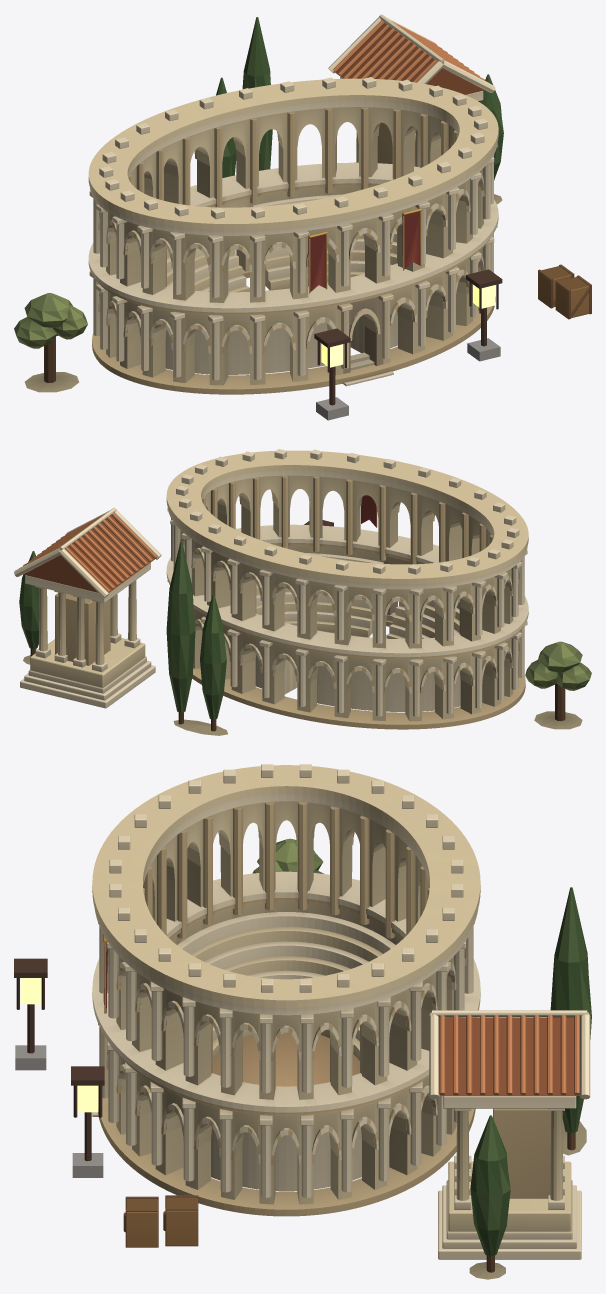
Rendered from rome.glb.
3 views of the same model, one above another, from view 1: azimuth 30°, elevation 25°; view 2: azimuth 150°, elevation 25°; view 3: azimuth 270°, elevation 25° (orthographic). The views are drawn at different scales.
Visible parts, largest first — view 1: rome__Rome_Limestone__vc, rome__Rome_CutStone__vc, rome__Rome_WarmStone__vc, rome__Rome_TileHighlight__vc, rome__Rome_Cypress__vc, rome__Rome_Terracotta__vc, rome__WarmMini_wooddark, rome__Rome_Cedar__vc, rome__Rome_EntryCrimson_R2__vc, rome__Rome_Olive__vc, rome__Rome_OliveLight_R2__vc, rome__Rome_EntryFrameShade__vc (+7 smaller); view 2: rome__Rome_Limestone__vc, rome__Rome_CutStone__vc, rome__Rome_WarmStone__vc, rome__Rome_Cypress__vc, rome__Rome_TileHighlight__vc, rome__Rome_CypressLight_R2__vc, rome__Rome_Terracotta__vc, rome__Rome_Olive__vc, rome__Rome_RootEarth_R2__vc, rome__Rome_OliveLight_R2__vc, rome__Rome_DarkWood__vc, rome__Rome_EntryCrimson_R2__vc; view 3: rome__Rome_Limestone__vc, rome__Rome_CutStone__vc, rome__Rome_WarmStone__vc, rome__Rome_Terracotta__vc, rome__Rome_TileHighlight__vc, rome__Rome_Cypress__vc, rome__Rome_CypressLight_R2__vc, rome__Rome_Cedar__vc, rome__Rome_ArenaSand_R2__vc, rome__WarmMini_wooddark, rome__WarmMini_stone, rome__WarmMini_Lamp (+2 smaller).
Part boxes in pixels (x1=…): rome__Rome_Limestone__vc: x1=88, y1=78, x2=498, y2=385; rome__Rome_CutStone__vc: x1=88, y1=14, x2=498, y2=386; rome__Rome_WarmStone__vc: x1=92, y1=107, x2=495, y2=394; rome__Rome_TileHighlight__vc: x1=333, y1=20, x2=489, y2=83; rome__Rome_Cypress__vc: x1=216, y1=17, x2=503, y2=180; rome__Rome_Terracotta__vc: x1=334, y1=23, x2=484, y2=94; rome__WarmMini_wooddark: x1=314, y1=269, x2=502, y2=405; rome__Rome_Cedar__vc: x1=538, y1=266, x2=589, y2=318; rome__Rome_EntryCrimson_R2__vc: x1=308, y1=211, x2=420, y2=291; rome__Rome_Olive__vc: x1=14, y1=293, x2=87, y2=348; rome__Rome_OliveLight_R2__vc: x1=16, y1=293, x2=87, y2=347; rome__Rome_EntryFrameShade__vc: x1=343, y1=296, x2=383, y2=373; rome__Rome_Limestone__vc: x1=30, y1=450, x2=528, y2=721; rome__Rome_CutStone__vc: x1=14, y1=449, x2=528, y2=716; rome__Rome_WarmStone__vc: x1=55, y1=475, x2=525, y2=729; rome__Rome_Cypress__vc: x1=19, y1=541, x2=226, y2=719; rome__Rome_TileHighlight__vc: x1=19, y1=513, x2=157, y2=592; rome__Rome_CypressLight_R2__vc: x1=19, y1=542, x2=226, y2=719; rome__Rome_Terracotta__vc: x1=23, y1=515, x2=156, y2=592; rome__Rome_Olive__vc: x1=525, y1=642, x2=591, y2=690; rome__Rome_RootEarth_R2__vc: x1=23, y1=655, x2=582, y2=735; rome__Rome_OliveLight_R2__vc: x1=525, y1=641, x2=589, y2=690; rome__Rome_DarkWood__vc: x1=30, y1=649, x2=565, y2=731; rome__Rome_EntryCrimson_R2__vc: x1=361, y1=495, x2=376, y2=527; rome__Rome_Limestone__vc: x1=92, y1=765, x2=571, y2=1231; rome__Rome_CutStone__vc: x1=92, y1=764, x2=590, y2=1259; rome__Rome_WarmStone__vc: x1=98, y1=801, x2=550, y2=1216; rome__Rome_Terracotta__vc: x1=439, y1=1017, x2=579, y2=1095; rome__Rome_TileHighlight__vc: x1=439, y1=1015, x2=579, y2=1095; rome__Rome_Cypress__vc: x1=470, y1=887, x2=591, y2=1256; rome__Rome_CypressLight_R2__vc: x1=470, y1=888, x2=591, y2=1256; rome__Rome_Cedar__vc: x1=126, y1=1197, x2=197, y2=1247; rome__Rome_ArenaSand_R2__vc: x1=213, y1=1032, x2=359, y2=1086; rome__WarmMini_wooddark: x1=14, y1=958, x2=104, y2=1161; rome__WarmMini_stone: x1=15, y1=1045, x2=103, y2=1177; rome__WarmMini_Lamp: x1=20, y1=978, x2=98, y2=1112.
Bounding box in the file's own units: 5.65 × 1.97 × 3.95.
